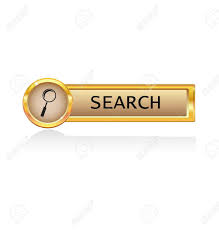searchIcon: (35, 86, 58, 118)
